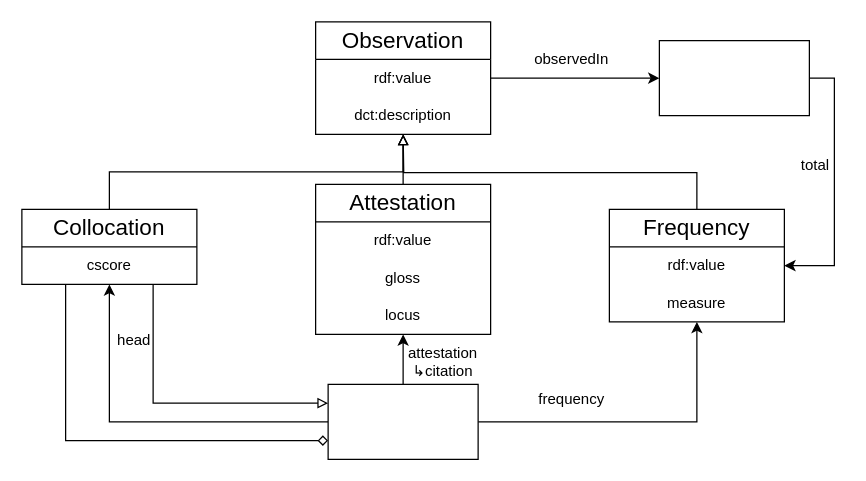
Some shapes in this 866 by 481 pixel diagram are drawn without their labels. Each missing label, with the centre of its shape:
anyURI: point 733,77
Observable: point 402,421
